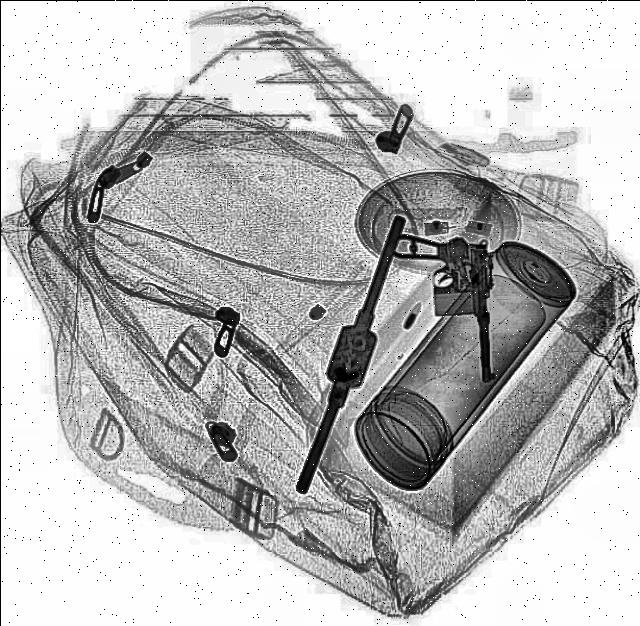Gun: (391, 233, 499, 383)
